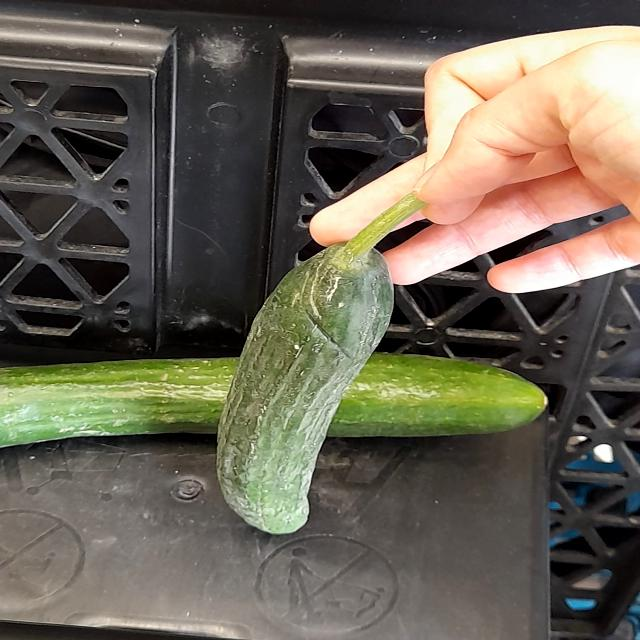cucumber: (192, 206, 441, 546)
